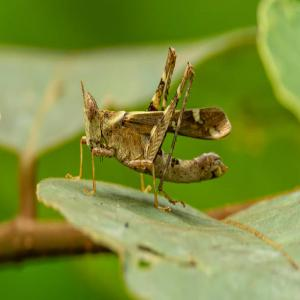locust: (56, 53, 238, 250)
